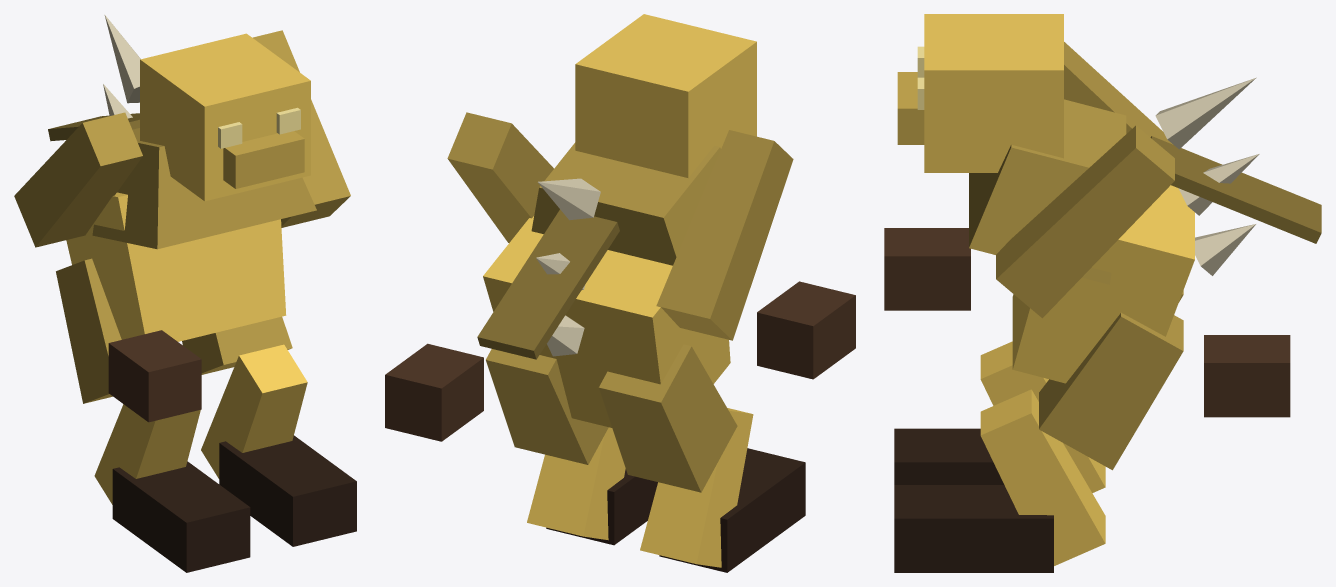
Rendered from enemy_runner.glb.
3 views of the same model, side by side, from view 1: azimuth 30°, elevation 25°; view 2: azimuth 150°, elevation 25°; view 3: azimuth 270°, elevation 25° (orthographic). The views are drawn at different scales.
Visible parts, largest first — view 1: enemy_runner; view 2: enemy_runner; view 3: enemy_runner.
Part boxes in pixels (x1,y1,x2,y2): enemy_runner: (14, 14, 356, 572); enemy_runner: (385, 14, 855, 572); enemy_runner: (884, 14, 1321, 572).
Size of the model in its own units: 0.48 by 0.805 by 0.6569.
